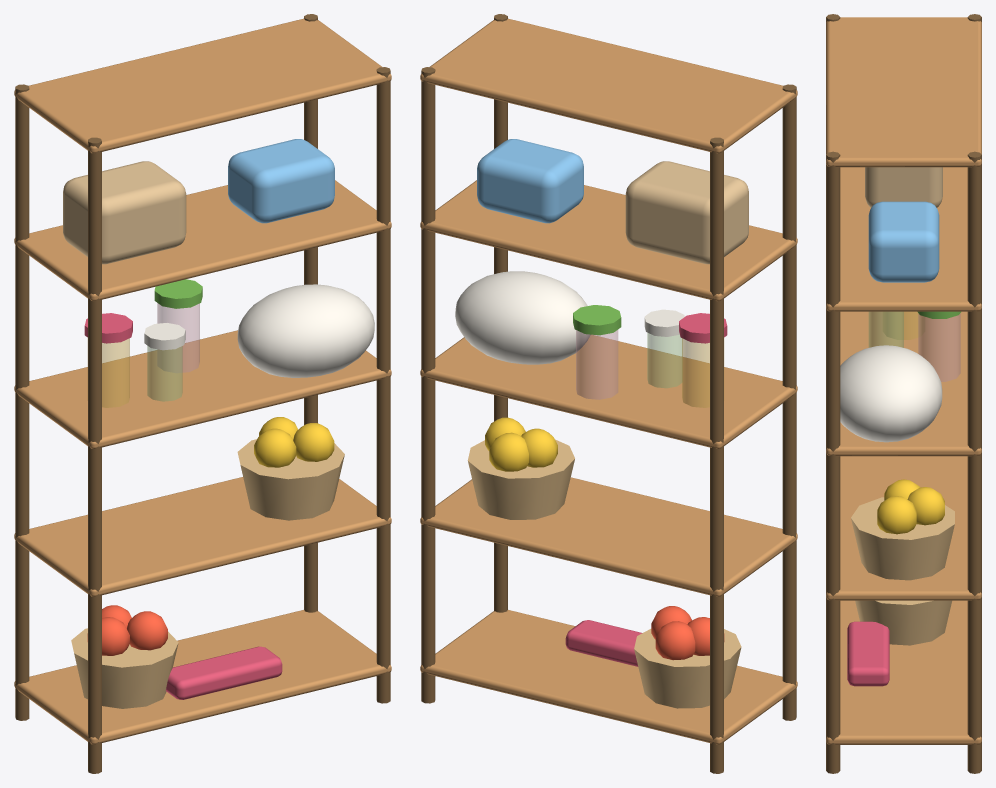
The model's file is pantry-rack.glb.
The picture shows the model from 3 angles, left to right: view 1: azimuth 30°, elevation 25°; view 2: azimuth 150°, elevation 25°; view 3: azimuth 270°, elevation 25°; orthographic projection. The views are drawn at different scales.
Size of the model in its own units: 0.98 by 1.92 by 0.44.
